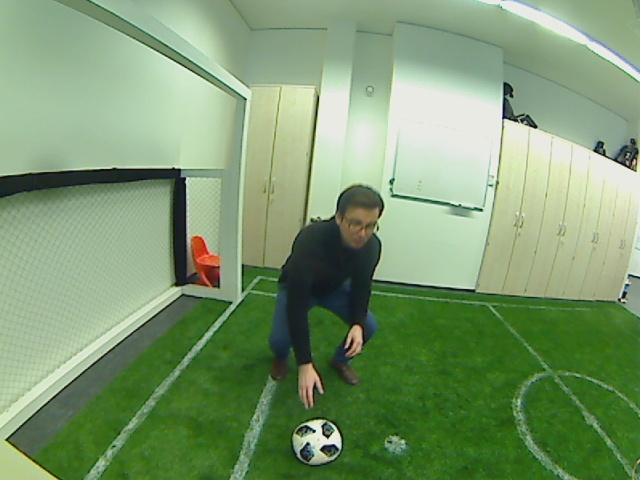ball: (290, 418, 344, 467)
